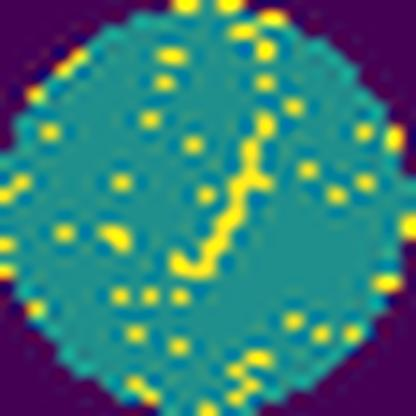Scratch: (170, 106, 284, 285)
